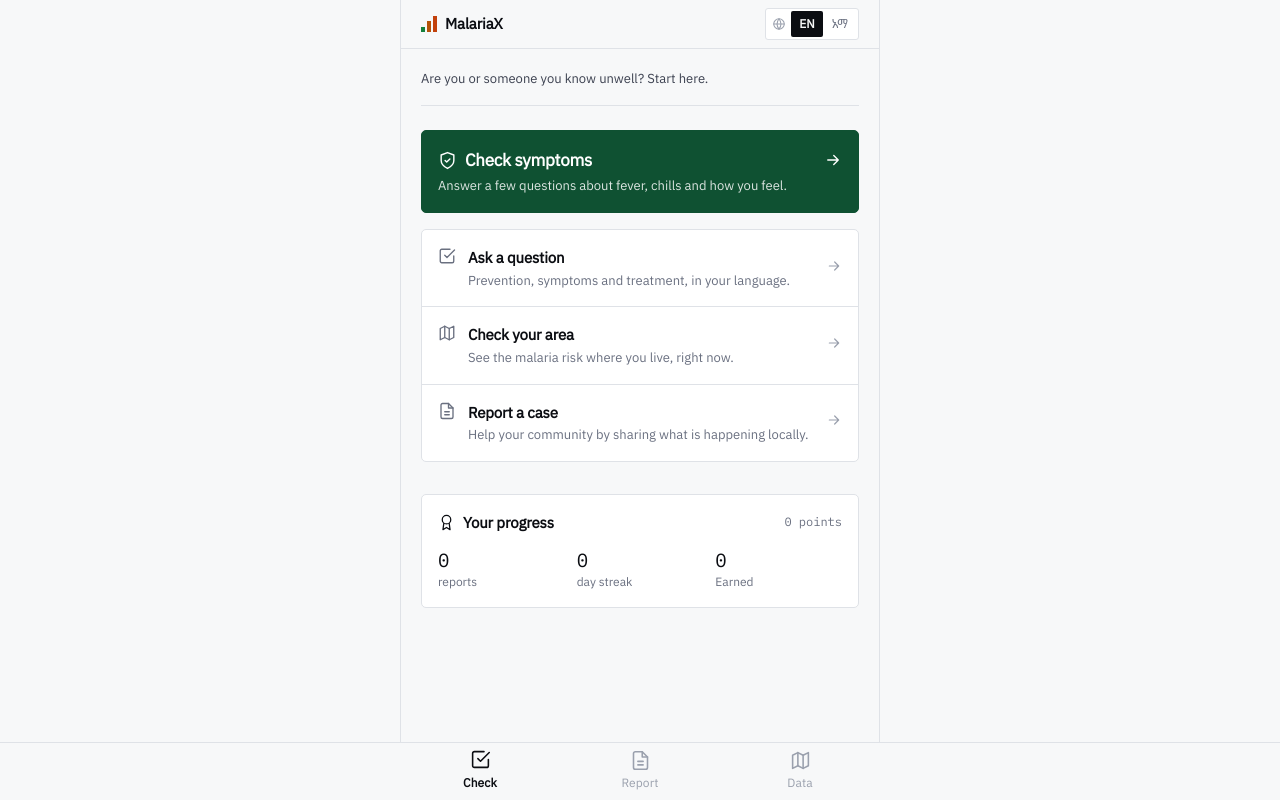
Test: Symptom check flow › is reachable from the launcher and renders every symptom
The width and height of the screenshot is (1280, 800).
Click the text "Check symptoms". click: coordinates (515, 160)
box: [438,147,592,173]
(page scrolled)
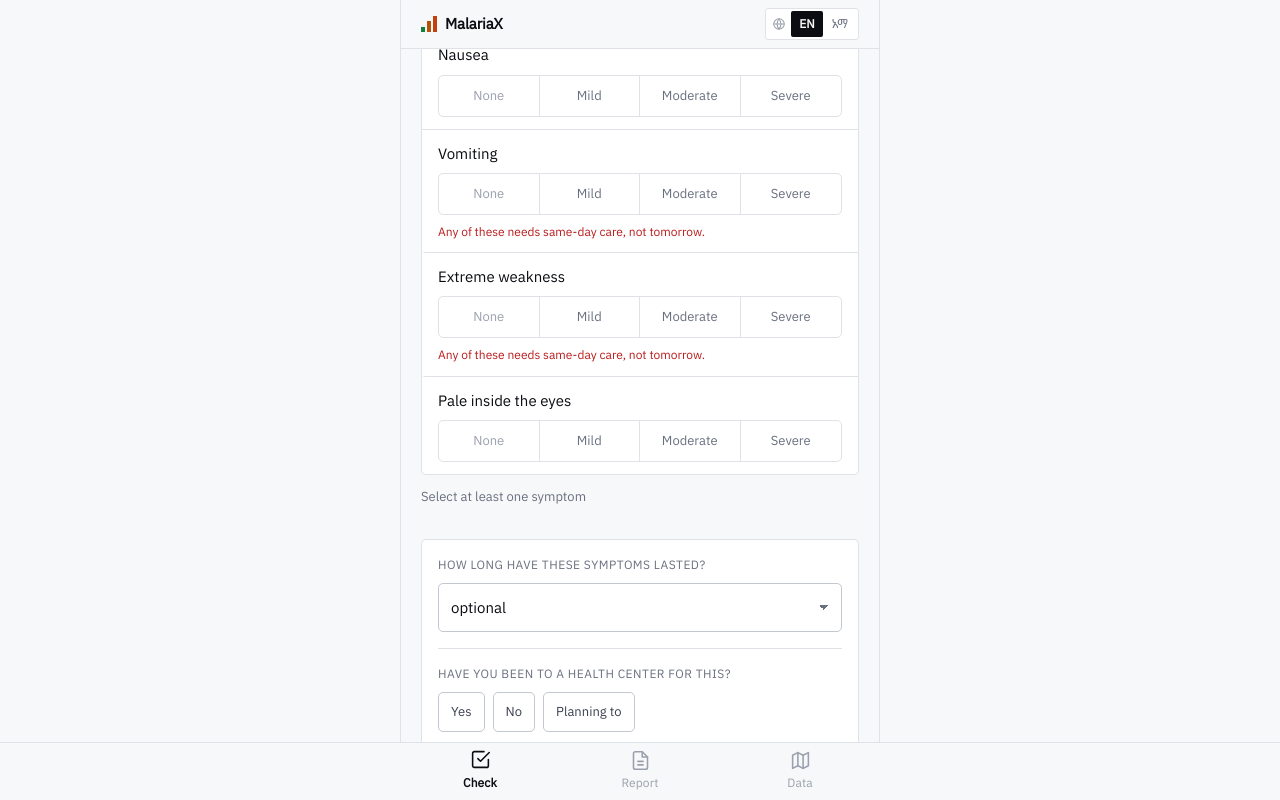
Expected: the text "Nausea" is shown, [438,43,489,67]
Expected: the text "Vomiting" is shown, [438,142,497,165]
Expected: the text "Extreme weakness" is shown, [438,265,565,288]
